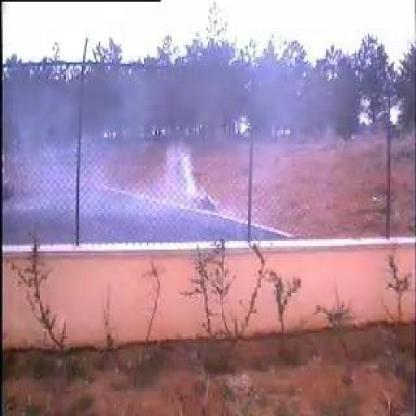-: (77, 71, 257, 243)
